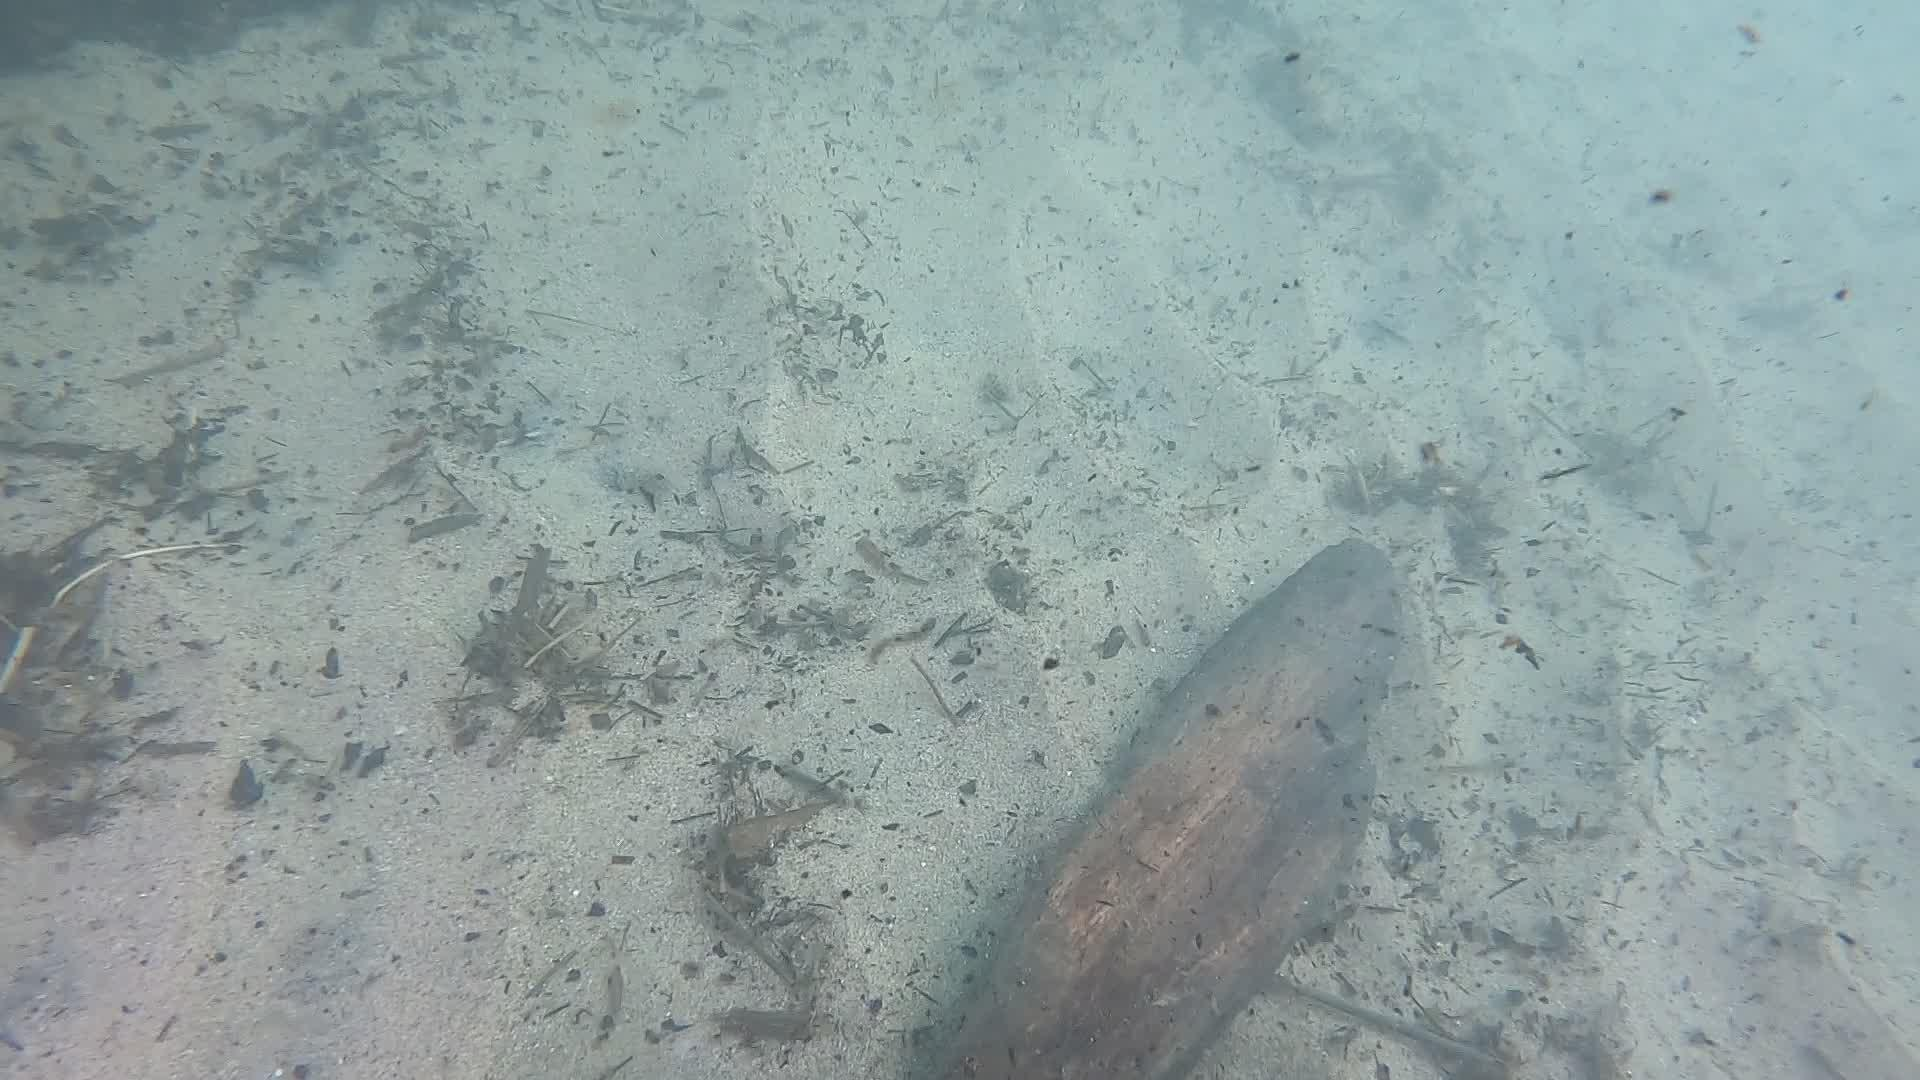wood: (928, 535, 1404, 1080)
